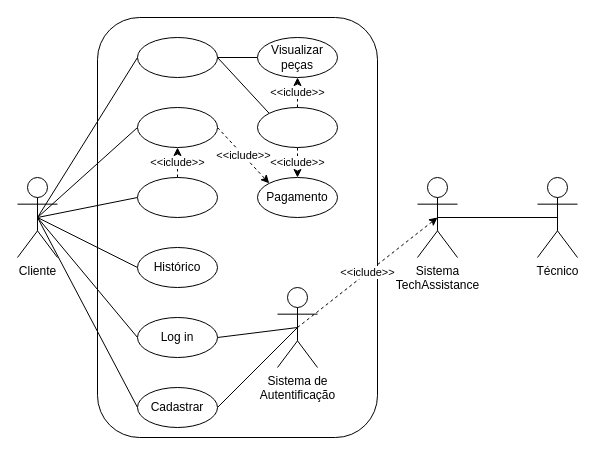
The diagram is 596 pixels wide and 455 high, and some of its shapes have lost their labels. The centre of each missing label's shape, as x and y in pixels:
Chat com Técnico: point (177, 197)
Loja de peças: point (177, 57)
Realizar compra: point (297, 127)
Requisitar Assitência: point (177, 127)
